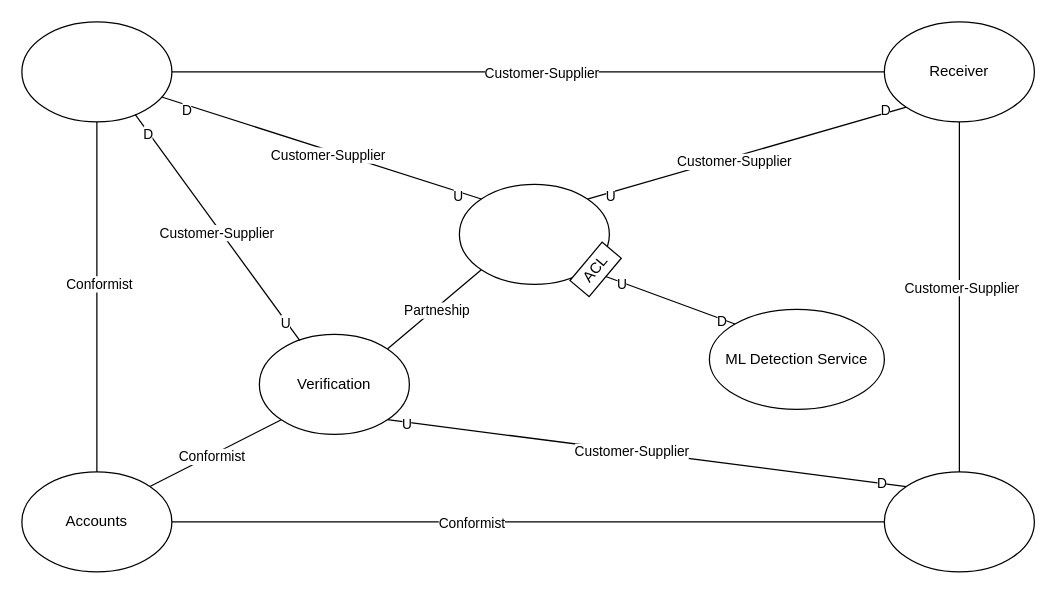
The diagram is 1056 pixels wide and 594 high, and some of its shapes have lost their labels. Here are the shapes that lost their labels. From the top down, the box of each, then its label:
(21, 21, 172, 122): Administration
(458, 183, 609, 284): Detection
(883, 471, 1034, 572): Analytics
